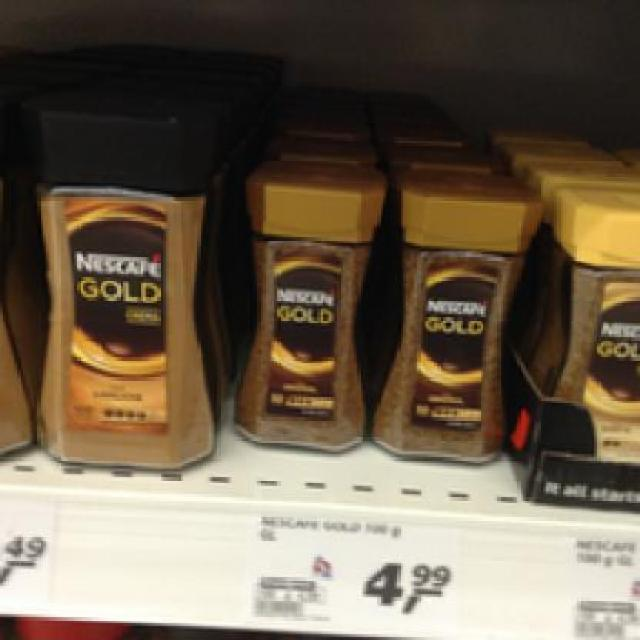Coffee: (17, 86, 223, 468), (366, 168, 540, 464), (234, 156, 386, 450)
